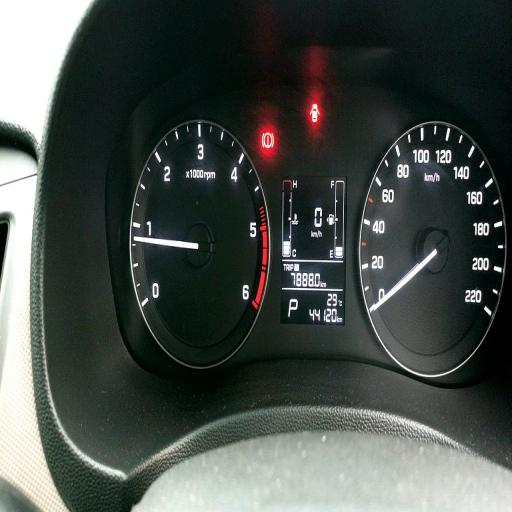brake_system_fault: (262, 132, 274, 148)
tachometer: (130, 119, 270, 367)
